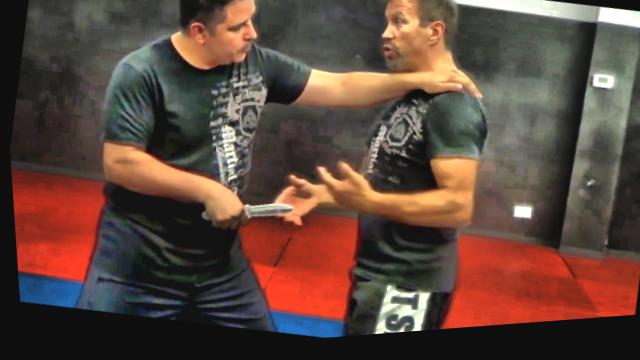knife: (192, 188, 296, 243)
